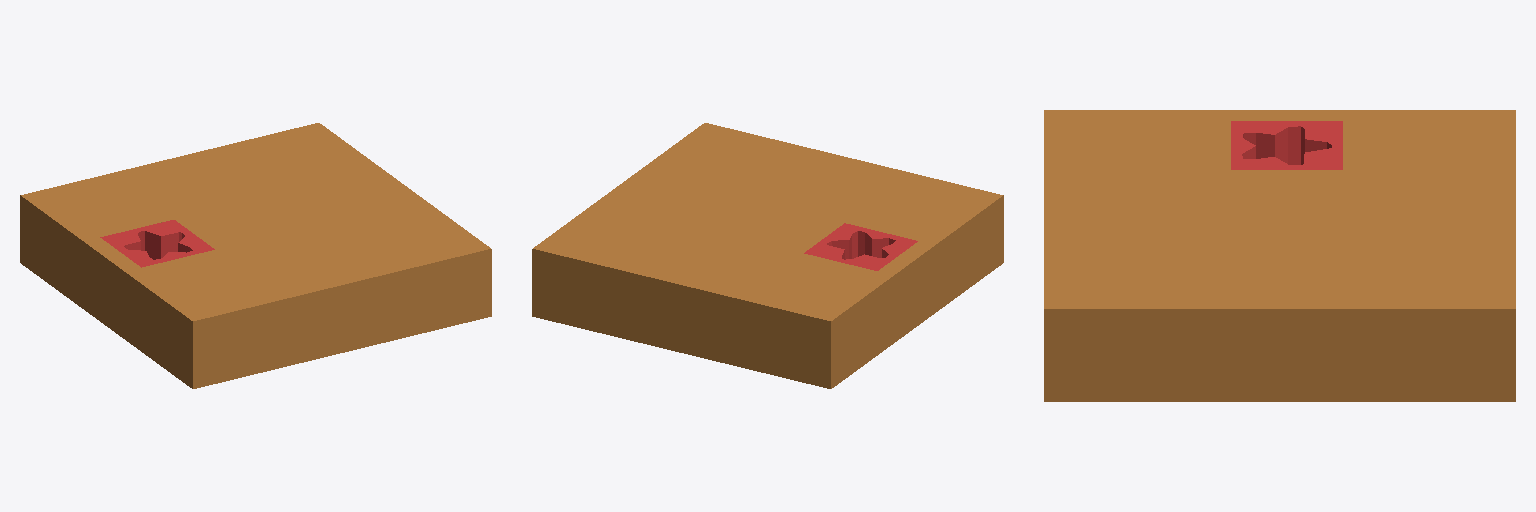
robot.urdf — fixture_peg_board_1_peg_40:
<?xml version="1.0" encoding="utf-8"?>
<robot name="fixture_peg_board_1_peg_40">
  <link name="plate">
    <visual>
      <origin xyz="0.000000 0.072938 0.025000" rpy="0.000000 0.000000 0.000000"/>
      <geometry>
        <box size="0.230000 0.084124 0.050000"/>
      </geometry>
      <material name="bulk"/>
    </visual>
    <collision>
      <origin xyz="0.000000 0.072938 0.025000" rpy="0.000000 0.000000 0.000000"/>
      <geometry>
        <box size="0.230000 0.084124 0.050000"/>
      </geometry>
    </collision>
    <visual>
      <origin xyz="0.000000 -0.069576 0.025000" rpy="0.000000 0.000000 0.000000"/>
      <geometry>
        <box size="0.230000 0.090848 0.050000"/>
      </geometry>
      <material name="bulk"/>
    </visual>
    <collision>
      <origin xyz="0.000000 -0.069576 0.025000" rpy="0.000000 0.000000 0.000000"/>
      <geometry>
        <box size="0.230000 0.090848 0.050000"/>
      </geometry>
    </collision>
    <visual>
      <origin xyz="-0.108564 0.003362 0.025000" rpy="0.000000 0.000000 0.000000"/>
      <geometry>
        <box size="0.012873 0.055028 0.050000"/>
      </geometry>
      <material name="bulk"/>
    </visual>
    <collision>
      <origin xyz="-0.108564 0.003362 0.025000" rpy="0.000000 0.000000 0.000000"/>
      <geometry>
        <box size="0.012873 0.055028 0.050000"/>
      </geometry>
    </collision>
    <visual>
      <origin xyz="0.034882 0.003362 0.025000" rpy="0.000000 0.000000 0.000000"/>
      <geometry>
        <box size="0.160236 0.055028 0.050000"/>
      </geometry>
      <material name="bulk"/>
    </visual>
    <collision>
      <origin xyz="0.034882 0.003362 0.025000" rpy="0.000000 0.000000 0.000000"/>
      <geometry>
        <box size="0.160236 0.055028 0.050000"/>
      </geometry>
    </collision>
    <visual>
      <origin xyz="0.000000 0.000000 0.000000" rpy="0.000000 0.000000 0.000000"/>
      <geometry>
        <mesh filename="../hole_patches/hole_5_coacd/decomp_0.obj" scale="1 1 1"/>
      </geometry>
      <material name="hole_5"/>
    </visual>
    <collision>
      <origin xyz="0.000000 0.000000 0.000000" rpy="0.000000 0.000000 0.000000"/>
      <geometry>
        <mesh filename="../hole_patches/hole_5_coacd/decomp_0.obj" scale="1 1 1"/>
      </geometry>
    </collision>
    <visual>
      <origin xyz="0.000000 0.000000 0.000000" rpy="0.000000 0.000000 0.000000"/>
      <geometry>
        <mesh filename="../hole_patches/hole_5_coacd/decomp_1.obj" scale="1 1 1"/>
      </geometry>
      <material name="hole_5"/>
    </visual>
    <collision>
      <origin xyz="0.000000 0.000000 0.000000" rpy="0.000000 0.000000 0.000000"/>
      <geometry>
        <mesh filename="../hole_patches/hole_5_coacd/decomp_1.obj" scale="1 1 1"/>
      </geometry>
    </collision>
    <visual>
      <origin xyz="0.000000 0.000000 0.000000" rpy="0.000000 0.000000 0.000000"/>
      <geometry>
        <mesh filename="../hole_patches/hole_5_coacd/decomp_10.obj" scale="1 1 1"/>
      </geometry>
      <material name="hole_5"/>
    </visual>
    <collision>
      <origin xyz="0.000000 0.000000 0.000000" rpy="0.000000 0.000000 0.000000"/>
      <geometry>
        <mesh filename="../hole_patches/hole_5_coacd/decomp_10.obj" scale="1 1 1"/>
      </geometry>
    </collision>
    <visual>
      <origin xyz="0.000000 0.000000 0.000000" rpy="0.000000 0.000000 0.000000"/>
      <geometry>
        <mesh filename="../hole_patches/hole_5_coacd/decomp_11.obj" scale="1 1 1"/>
      </geometry>
      <material name="hole_5"/>
    </visual>
    <collision>
      <origin xyz="0.000000 0.000000 0.000000" rpy="0.000000 0.000000 0.000000"/>
      <geometry>
        <mesh filename="../hole_patches/hole_5_coacd/decomp_11.obj" scale="1 1 1"/>
      </geometry>
    </collision>
    <visual>
      <origin xyz="0.000000 0.000000 0.000000" rpy="0.000000 0.000000 0.000000"/>
      <geometry>
        <mesh filename="../hole_patches/hole_5_coacd/decomp_12.obj" scale="1 1 1"/>
      </geometry>
      <material name="hole_5"/>
    </visual>
    <collision>
      <origin xyz="0.000000 0.000000 0.000000" rpy="0.000000 0.000000 0.000000"/>
      <geometry>
        <mesh filename="../hole_patches/hole_5_coacd/decomp_12.obj" scale="1 1 1"/>
      </geometry>
    </collision>
    <visual>
      <origin xyz="0.000000 0.000000 0.000000" rpy="0.000000 0.000000 0.000000"/>
      <geometry>
        <mesh filename="../hole_patches/hole_5_coacd/decomp_13.obj" scale="1 1 1"/>
      </geometry>
      <material name="hole_5"/>
    </visual>
    <collision>
      <origin xyz="0.000000 0.000000 0.000000" rpy="0.000000 0.000000 0.000000"/>
      <geometry>
        <mesh filename="../hole_patches/hole_5_coacd/decomp_13.obj" scale="1 1 1"/>
      </geometry>
    </collision>
    <visual>
      <origin xyz="0.000000 0.000000 0.000000" rpy="0.000000 0.000000 0.000000"/>
      <geometry>
        <mesh filename="../hole_patches/hole_5_coacd/decomp_14.obj" scale="1 1 1"/>
      </geometry>
      <material name="hole_5"/>
    </visual>
    <collision>
      <origin xyz="0.000000 0.000000 0.000000" rpy="0.000000 0.000000 0.000000"/>
      <geometry>
        <mesh filename="../hole_patches/hole_5_coacd/decomp_14.obj" scale="1 1 1"/>
      </geometry>
    </collision>
    <visual>
      <origin xyz="0.000000 0.000000 0.000000" rpy="0.000000 0.000000 0.000000"/>
      <geometry>
        <mesh filename="../hole_patches/hole_5_coacd/decomp_2.obj" scale="1 1 1"/>
      </geometry>
      <material name="hole_5"/>
    </visual>
    <collision>
      <origin xyz="0.000000 0.000000 0.000000" rpy="0.000000 0.000000 0.000000"/>
      <geometry>
        <mesh filename="../hole_patches/hole_5_coacd/decomp_2.obj" scale="1 1 1"/>
      </geometry>
    </collision>
    <visual>
      <origin xyz="0.000000 0.000000 0.000000" rpy="0.000000 0.000000 0.000000"/>
      <geometry>
        <mesh filename="../hole_patches/hole_5_coacd/decomp_3.obj" scale="1 1 1"/>
      </geometry>
      <material name="hole_5"/>
    </visual>
    <collision>
      <origin xyz="0.000000 0.000000 0.000000" rpy="0.000000 0.000000 0.000000"/>
      <geometry>
        <mesh filename="../hole_patches/hole_5_coacd/decomp_3.obj" scale="1 1 1"/>
      </geometry>
    </collision>
    <visual>
      <origin xyz="0.000000 0.000000 0.000000" rpy="0.000000 0.000000 0.000000"/>
      <geometry>
        <mesh filename="../hole_patches/hole_5_coacd/decomp_4.obj" scale="1 1 1"/>
      </geometry>
      <material name="hole_5"/>
    </visual>
    <collision>
      <origin xyz="0.000000 0.000000 0.000000" rpy="0.000000 0.000000 0.000000"/>
      <geometry>
        <mesh filename="../hole_patches/hole_5_coacd/decomp_4.obj" scale="1 1 1"/>
      </geometry>
    </collision>
    <visual>
      <origin xyz="0.000000 0.000000 0.000000" rpy="0.000000 0.000000 0.000000"/>
      <geometry>
        <mesh filename="../hole_patches/hole_5_coacd/decomp_5.obj" scale="1 1 1"/>
      </geometry>
      <material name="hole_5"/>
    </visual>
    <collision>
      <origin xyz="0.000000 0.000000 0.000000" rpy="0.000000 0.000000 0.000000"/>
      <geometry>
        <mesh filename="../hole_patches/hole_5_coacd/decomp_5.obj" scale="1 1 1"/>
      </geometry>
    </collision>
    <visual>
      <origin xyz="0.000000 0.000000 0.000000" rpy="0.000000 0.000000 0.000000"/>
      <geometry>
        <mesh filename="../hole_patches/hole_5_coacd/decomp_6.obj" scale="1 1 1"/>
      </geometry>
      <material name="hole_5"/>
    </visual>
    <collision>
      <origin xyz="0.000000 0.000000 0.000000" rpy="0.000000 0.000000 0.000000"/>
      <geometry>
        <mesh filename="../hole_patches/hole_5_coacd/decomp_6.obj" scale="1 1 1"/>
      </geometry>
    </collision>
    <visual>
      <origin xyz="0.000000 0.000000 0.000000" rpy="0.000000 0.000000 0.000000"/>
      <geometry>
        <mesh filename="../hole_patches/hole_5_coacd/decomp_7.obj" scale="1 1 1"/>
      </geometry>
      <material name="hole_5"/>
    </visual>
    <collision>
      <origin xyz="0.000000 0.000000 0.000000" rpy="0.000000 0.000000 0.000000"/>
      <geometry>
        <mesh filename="../hole_patches/hole_5_coacd/decomp_7.obj" scale="1 1 1"/>
      </geometry>
    </collision>
    <visual>
      <origin xyz="0.000000 0.000000 0.000000" rpy="0.000000 0.000000 0.000000"/>
      <geometry>
        <mesh filename="../hole_patches/hole_5_coacd/decomp_8.obj" scale="1 1 1"/>
      </geometry>
      <material name="hole_5"/>
    </visual>
    <collision>
      <origin xyz="0.000000 0.000000 0.000000" rpy="0.000000 0.000000 0.000000"/>
      <geometry>
        <mesh filename="../hole_patches/hole_5_coacd/decomp_8.obj" scale="1 1 1"/>
      </geometry>
    </collision>
    <visual>
      <origin xyz="0.000000 0.000000 0.000000" rpy="0.000000 0.000000 0.000000"/>
      <geometry>
        <mesh filename="../hole_patches/hole_5_coacd/decomp_9.obj" scale="1 1 1"/>
      </geometry>
      <material name="hole_5"/>
    </visual>
    <collision>
      <origin xyz="0.000000 0.000000 0.000000" rpy="0.000000 0.000000 0.000000"/>
      <geometry>
        <mesh filename="../hole_patches/hole_5_coacd/decomp_9.obj" scale="1 1 1"/>
      </geometry>
    </collision>
  </link>
  <material name="bulk">
    <color rgba="0.7800 0.5500 0.3000 1.0000"/>
  </material>
  <material name="hole_5">
    <color rgba="0.8500 0.3000 0.3000 1.0000"/>
  </material>
</robot>

--- Facts derived from the render (not from the file) ---
The picture shows the robot from 3 angles, left to right: view 1: azimuth 30°, elevation 25°; view 2: azimuth 150°, elevation 25°; view 3: azimuth 270°, elevation 25°; orthographic projection.
Robot: fixture_peg_board_1_peg_40 — 1 links, 0 joints (none); root link plate; default pose: every joint at zero.
Links seen in each view (by area): view 1: plate; view 2: plate; view 3: plate.
Boxes of the visible links, x1,y1,x2,y2 form: plate: (20,123,491,388); plate: (532,123,1003,388); plate: (1044,110,1515,401).
Bounding box of the posed robot: 0.23 × 0.23 × 0.05 m (x, y, z).
15 mesh visuals loaded from 15 distinct referenced files (15 OBJ).
